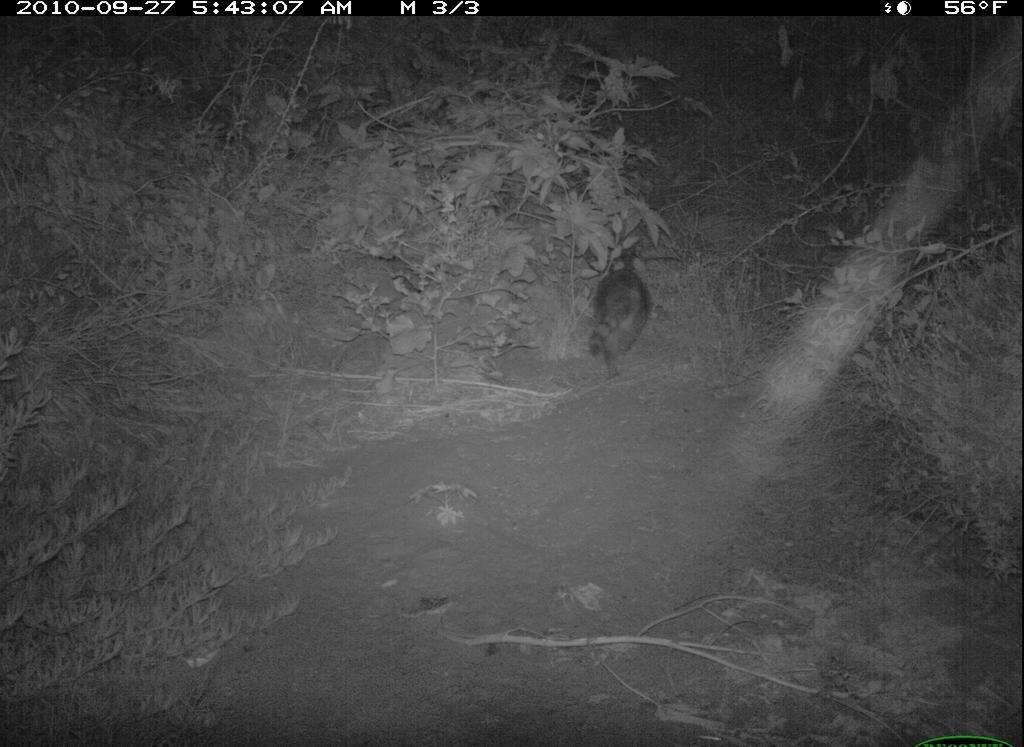raccoon: (582, 244, 667, 377)
